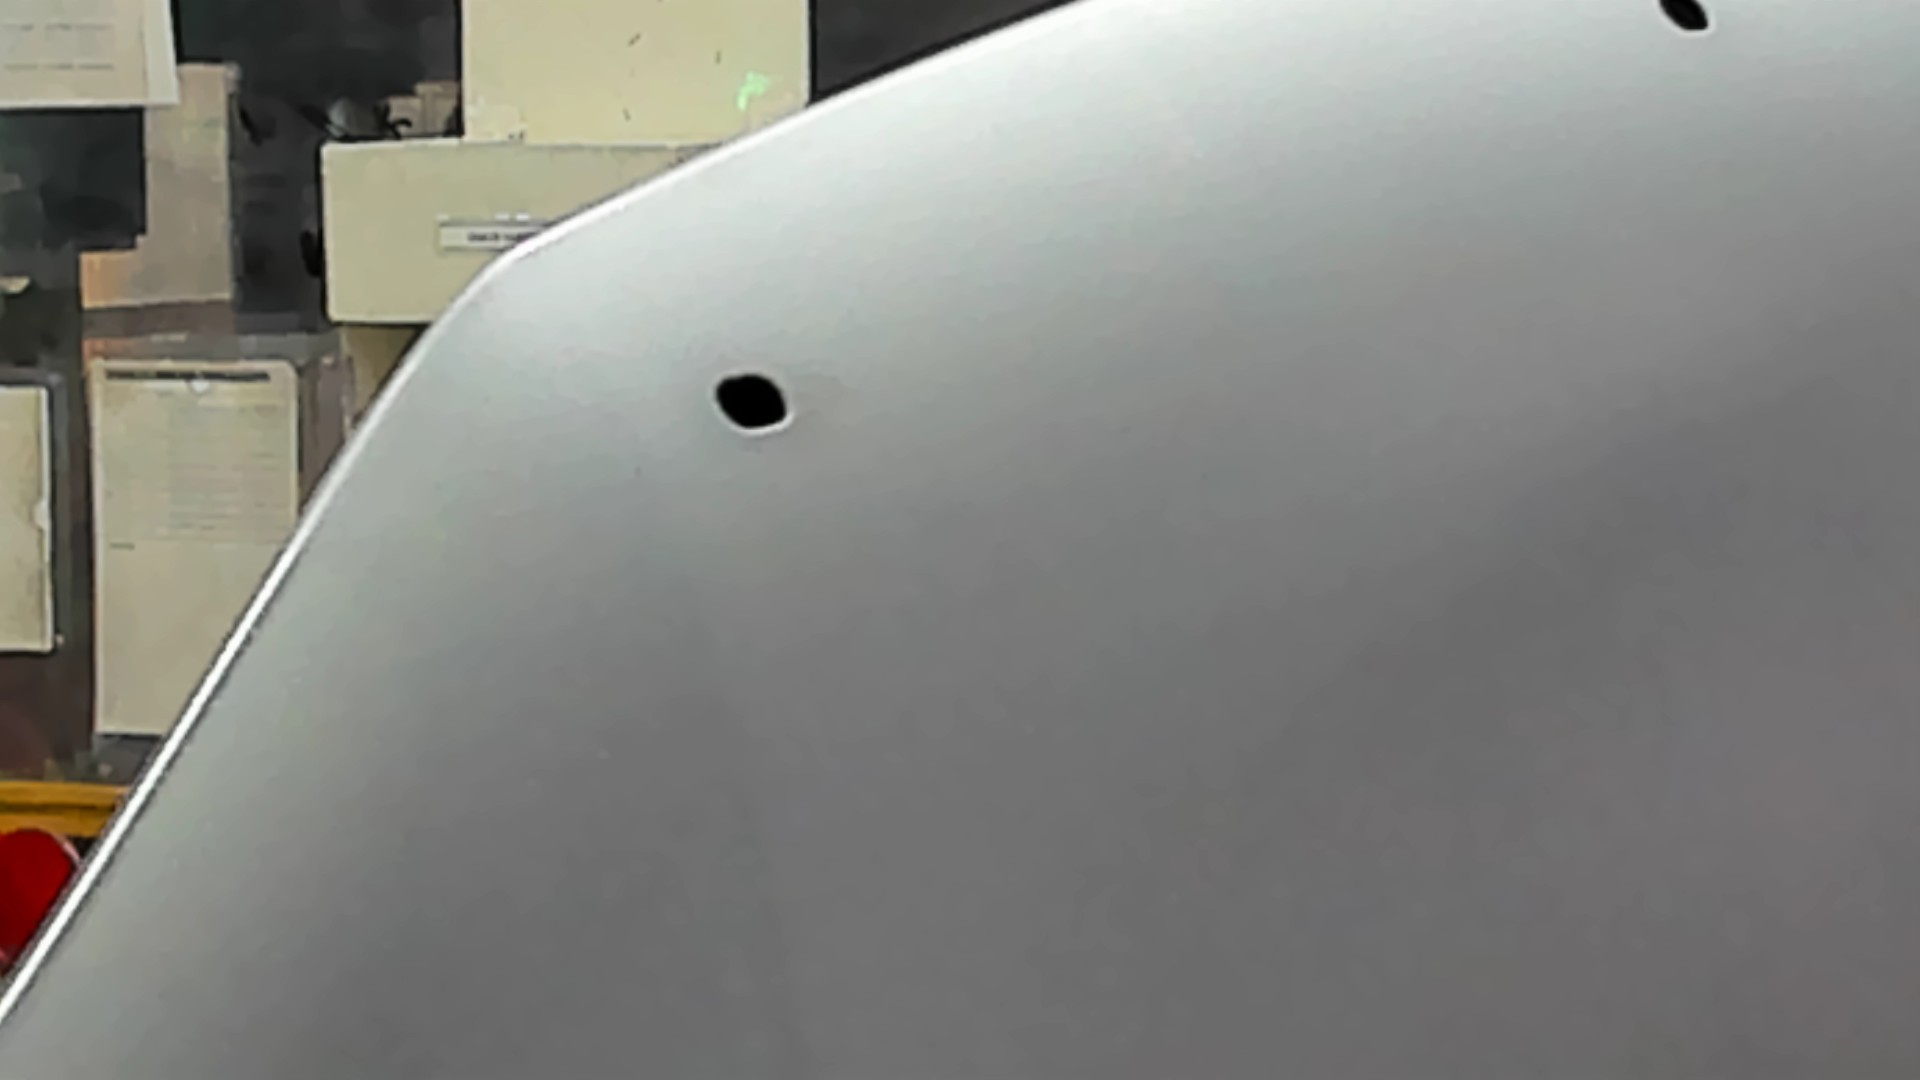chico: (704, 368, 800, 442), (1650, 1, 1727, 41)
